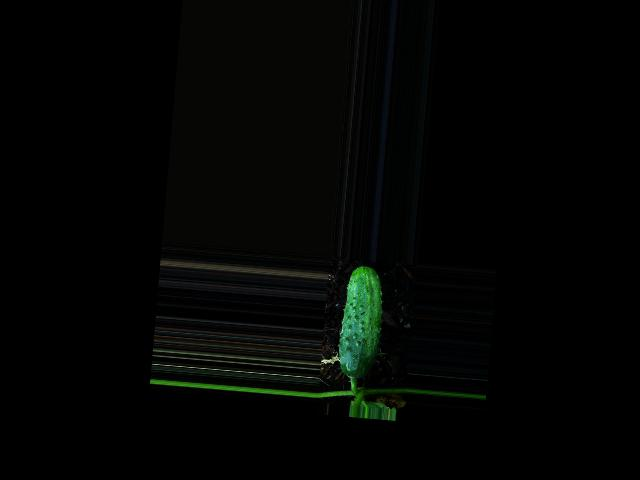cucumber: (336, 263, 386, 379)
